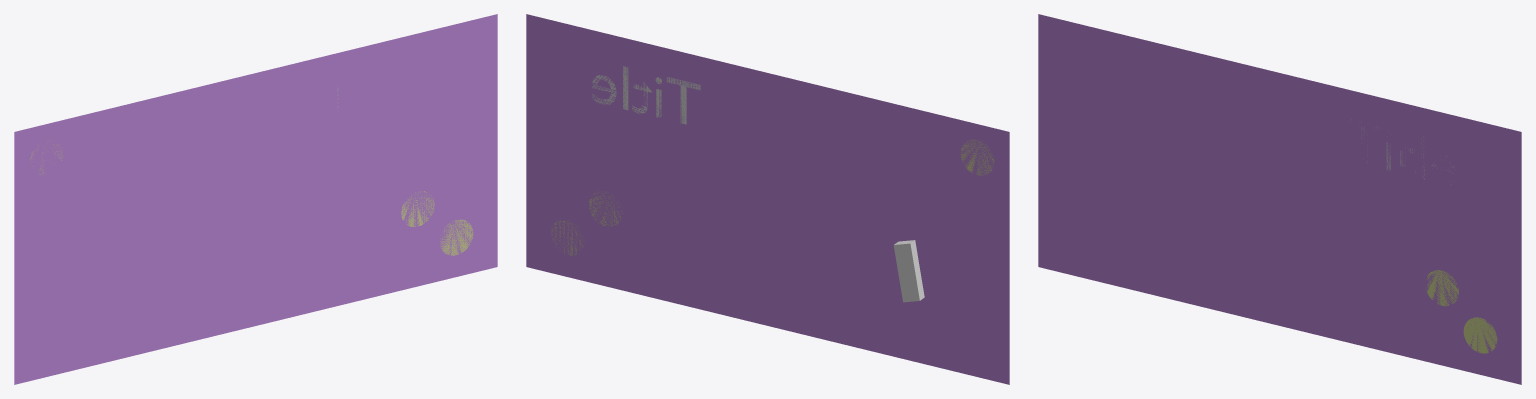
File: prototype.fbx
The picture shows the model from 3 angles, left to right: view 1: azimuth 30°, elevation 25°; view 2: azimuth 150°, elevation 25°; view 3: azimuth 330°, elevation 25°; orthographic projection.
Visible parts, largest first — view 1: Background, Circle, Circle.001; view 2: Background, Text, Cube, Circle.002; view 3: Background, Circle, Circle.001.
Part boxes in pixels (x1,y1,x2,y2): Background: [14, 14, 497, 384]; Circle: [440, 219, 473, 255]; Circle.001: [401, 191, 434, 226]; Background: [526, 14, 1009, 384]; Text: [592, 66, 700, 124]; Cube: [893, 240, 924, 302]; Circle.002: [961, 139, 994, 175]; Background: [1038, 14, 1521, 384]; Circle: [1463, 317, 1497, 353]; Circle.001: [1425, 270, 1458, 306].
Size of the model in its own units: 8 by 0.2014 by 4.
